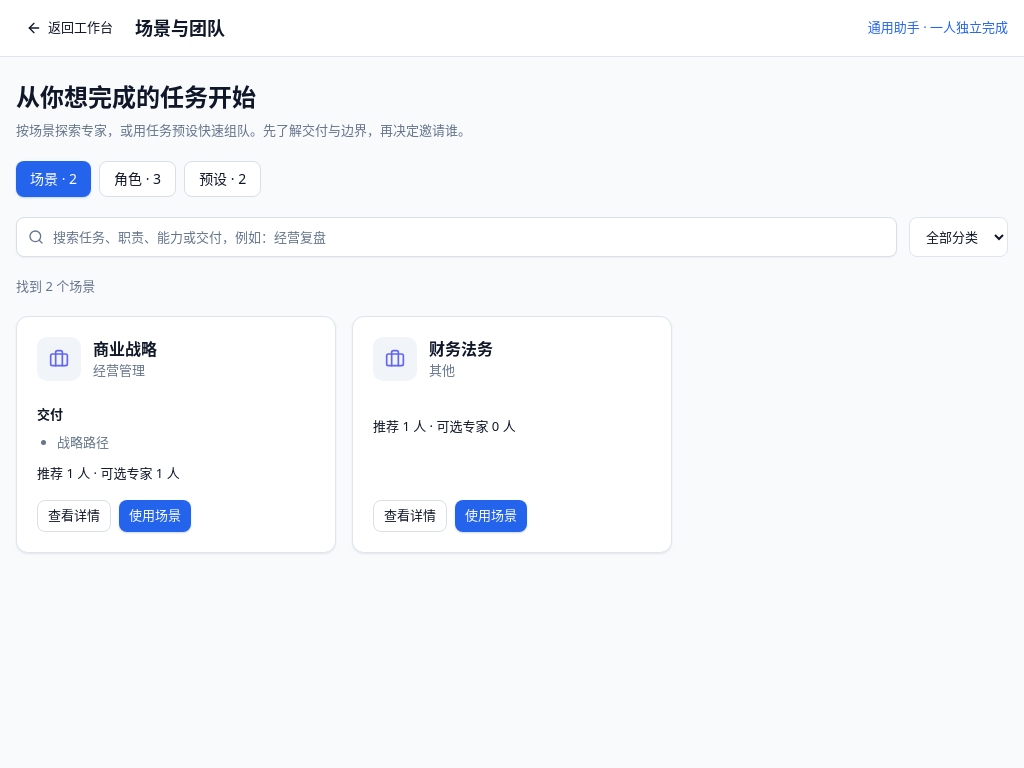
Scenario: 目录页：页签、空态与详情 › 页签数量取真实资产，搜索无结果可清除筛选
Check: the button "场景 · 2" is shown, box [16,160,91,196]
Check: the button "角色 · 3" is shown, box [99,160,176,196]
Type "不存在的关键词" into the field named "搜索场景角色预设". click: (456, 236)
box: [16,216,897,256]
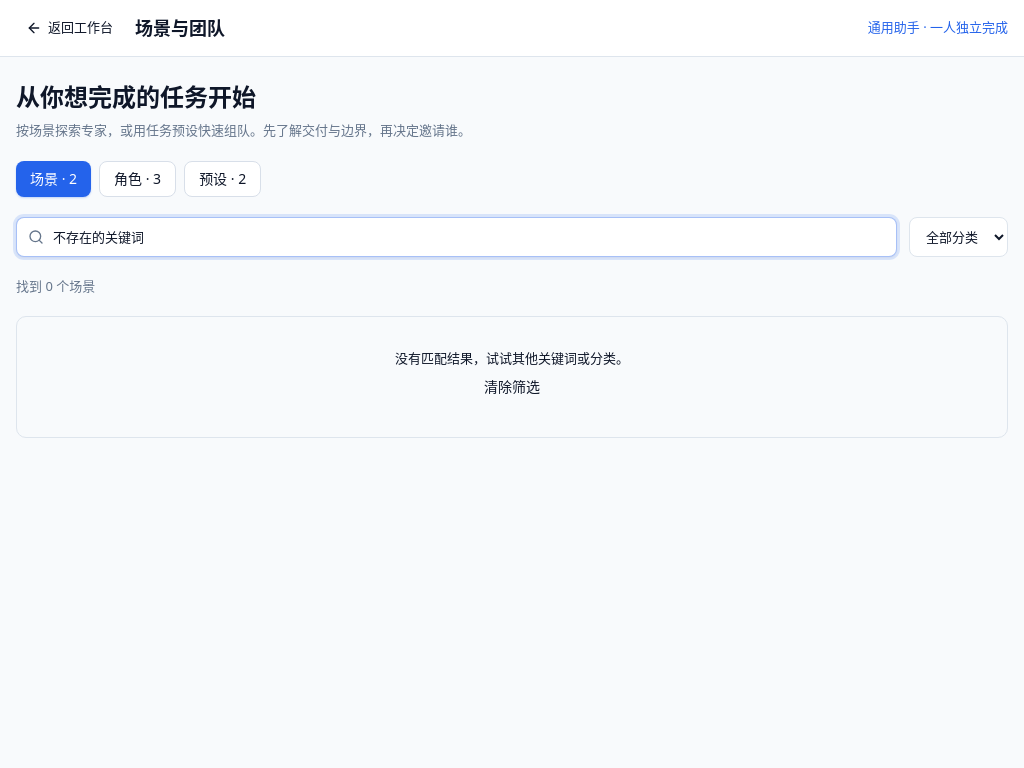
Check: the text "没有匹配结果，试试其他关键词或分类。" is shown, box [395,349,629,367]
Click the button "清除筛选". click: (512, 386)
box: [470,368,554,404]
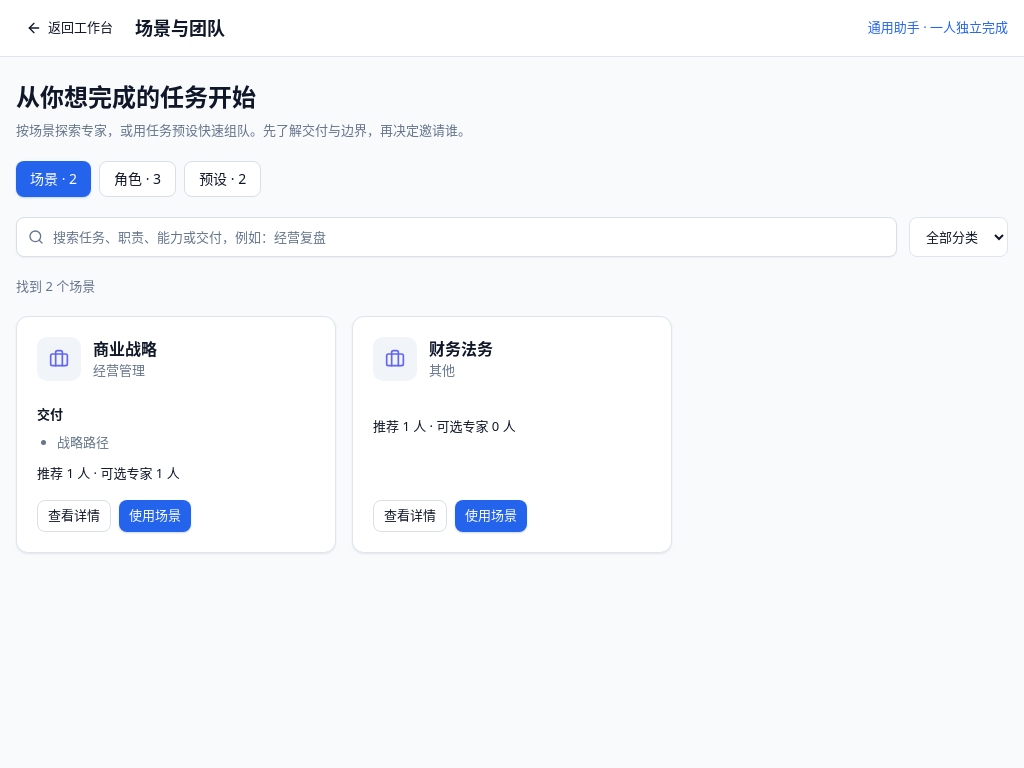
Check: the heading "商业战略" is shown, box [93,337,157,361]
